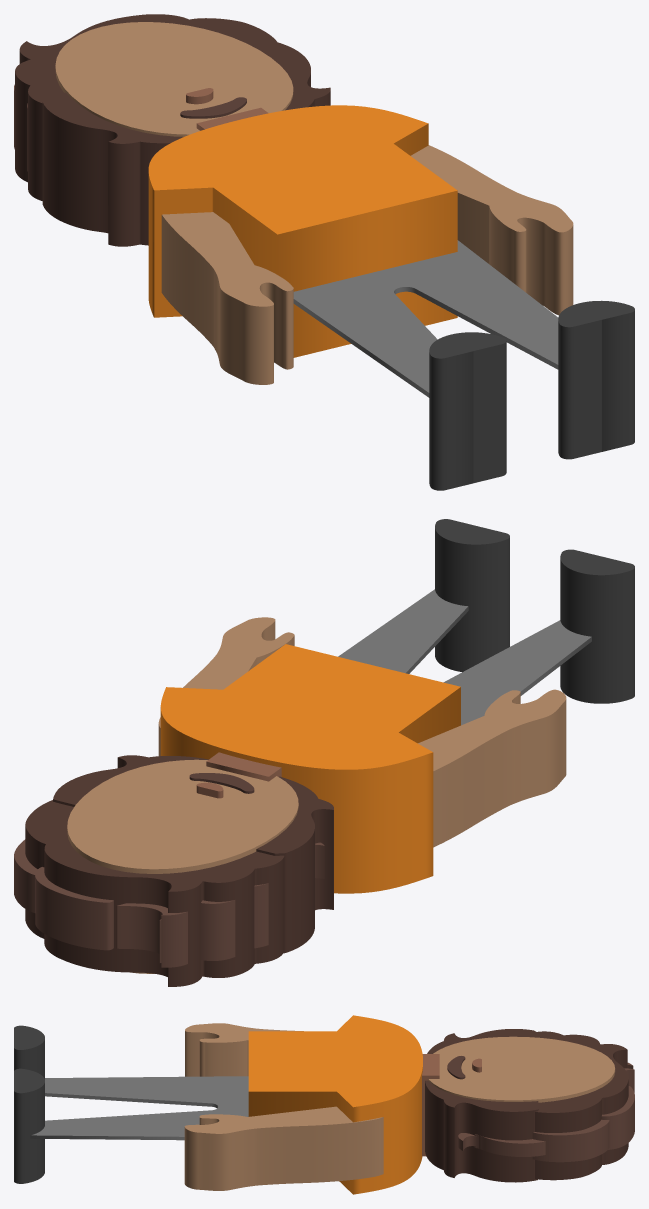
File: emoji_u1f9cd_1f3fd.glb
3 views of the same model, one above another, from view 1: azimuth 30°, elevation 25°; view 2: azimuth 150°, elevation 25°; view 3: azimuth 270°, elevation 25° (orthographic). The views are drawn at different scales.
Visible parts, largest first — view 1: emoji_u1f9cd_1f3fd; view 2: emoji_u1f9cd_1f3fd; view 3: emoji_u1f9cd_1f3fd.
Boxes of the visible parts, <box> form: emoji_u1f9cd_1f3fd: <box>14,14,634,490</box>; emoji_u1f9cd_1f3fd: <box>14,519,634,986</box>; emoji_u1f9cd_1f3fd: <box>14,1015,634,1194</box>.
Size of the model in its own units: 0.0143 by 0.0054 by 0.0335.
